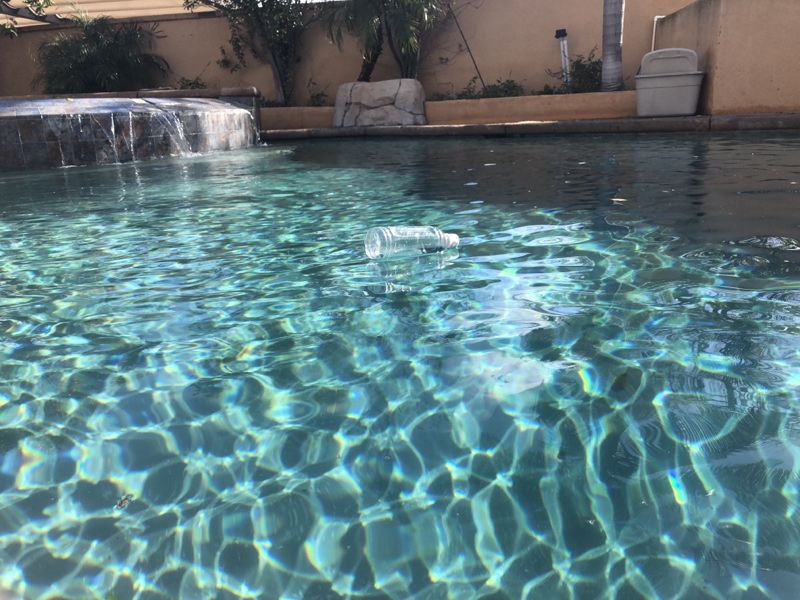Plastic Bottle: (361, 221, 463, 263)
